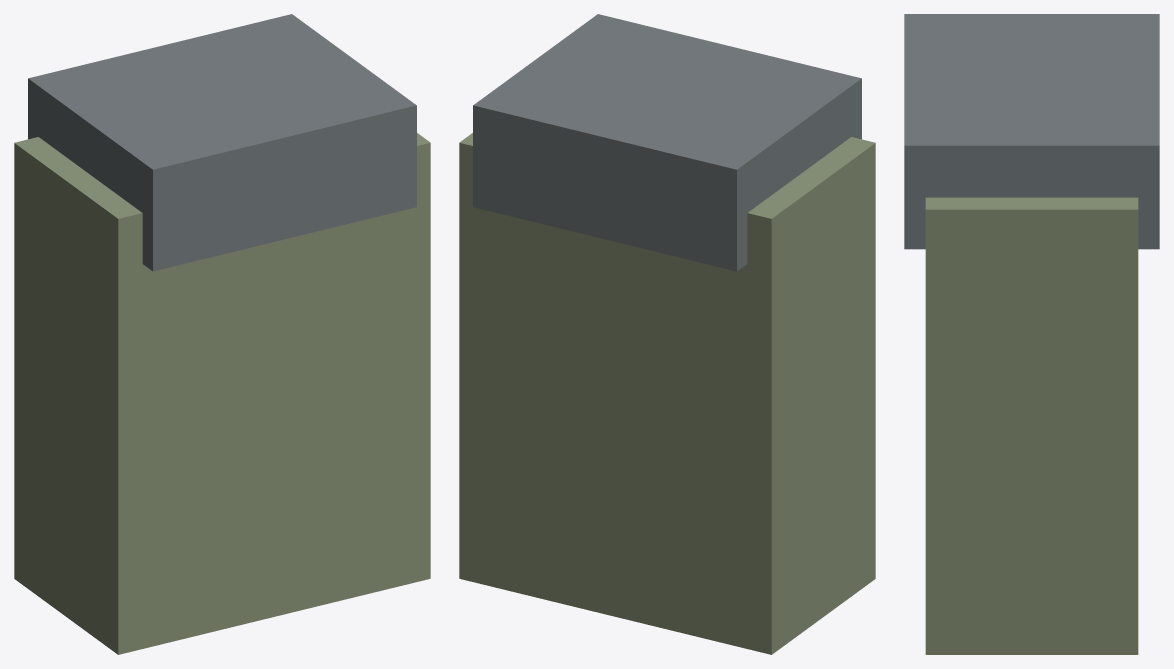
The model's file is iz2_armor_knee_pads.glb.
3 renders of one model, left to right at view 1: azimuth 30°, elevation 25°; view 2: azimuth 150°, elevation 25°; view 3: azimuth 270°, elevation 25°, orthographic. The views are drawn at different scales.
Visible parts, largest first — view 1: body; view 2: body; view 3: body.
Part boxes in pixels (box(x1,y1,x2,y2)): body: box(14, 14, 430, 654); body: box(459, 14, 875, 654); body: box(904, 14, 1159, 654).
Size of the model in its own units: 0.4399 by 0.6549 by 0.3045.
